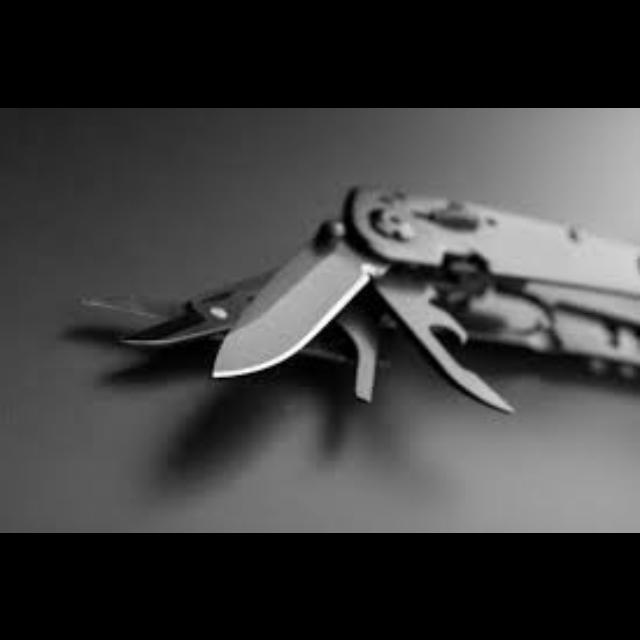knife: (77, 182, 637, 414)
